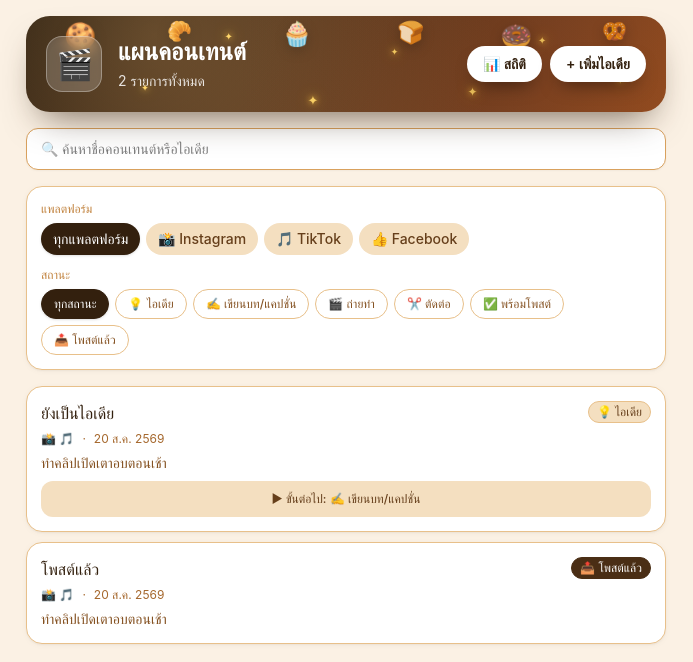
Test: ContentPlannerPage › กรองตามสถานะ แสดงเฉพาะคอนเทนต์ที่อยู่ในสถานะนั้น
The width and height of the screenshot is (693, 662).
Click the button "📤 โพสต์แล้ว": (85, 340) left=41, top=325, right=129, bottom=355
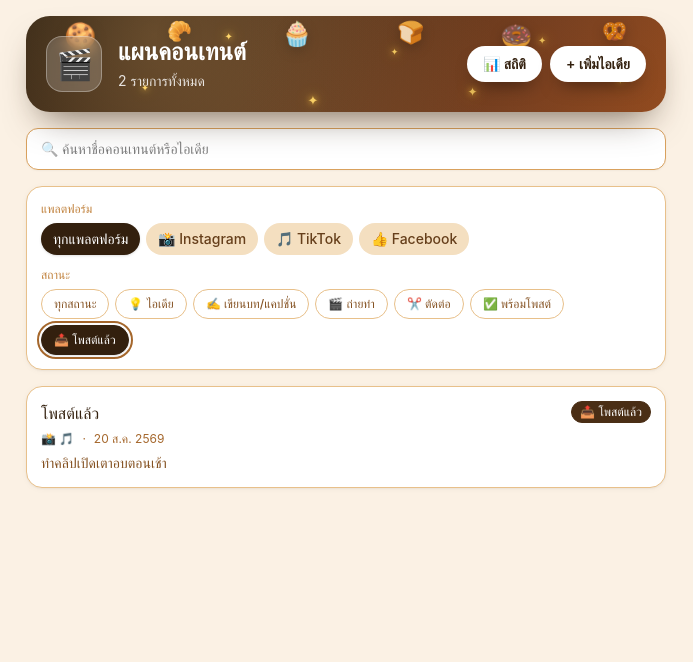
Expected: the text "โพสต์แล้ว" is shown, left=41, top=401, right=99, bottom=425
Now the link "ยังเป็นไอเดีย" is gone
